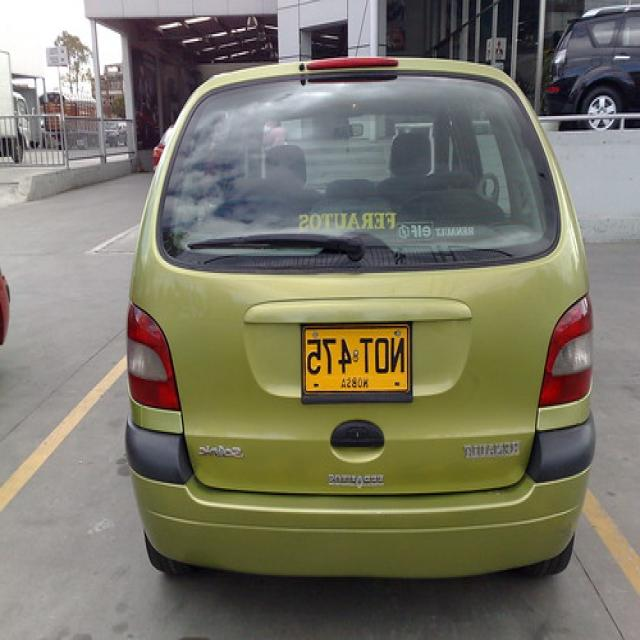placas: (303, 331, 407, 375)
